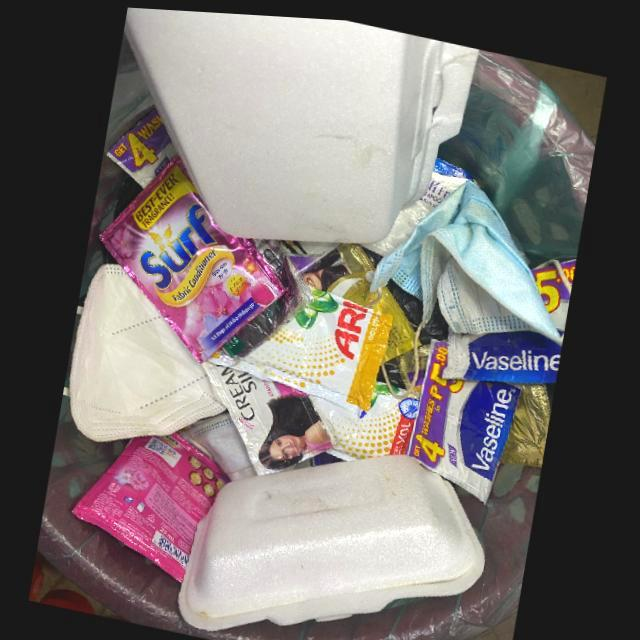plastic_sachet: (106, 152, 286, 360), (72, 428, 233, 580), (208, 284, 394, 412), (410, 335, 521, 497), (204, 358, 335, 469), (309, 379, 421, 457), (106, 100, 193, 186), (440, 320, 563, 378), (532, 253, 577, 330)
